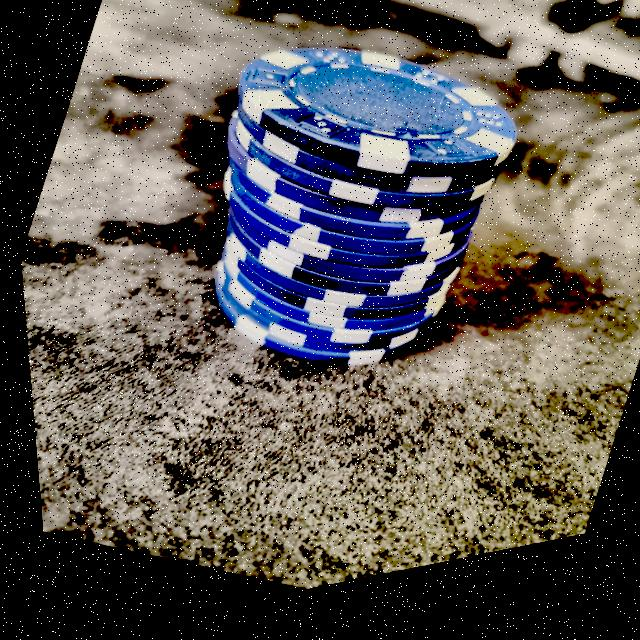Chip: (100, 0, 584, 480)
